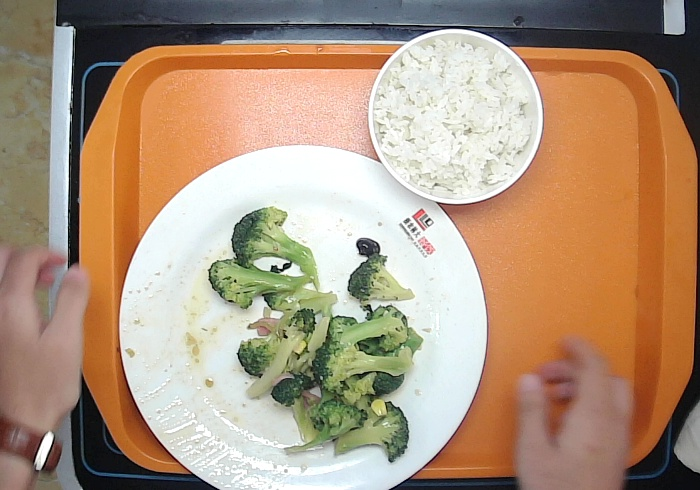ZNLD-Da_Yuan_Pan: (118, 140, 489, 490)
ZNLD-Fan_Wan: (367, 17, 545, 204)
